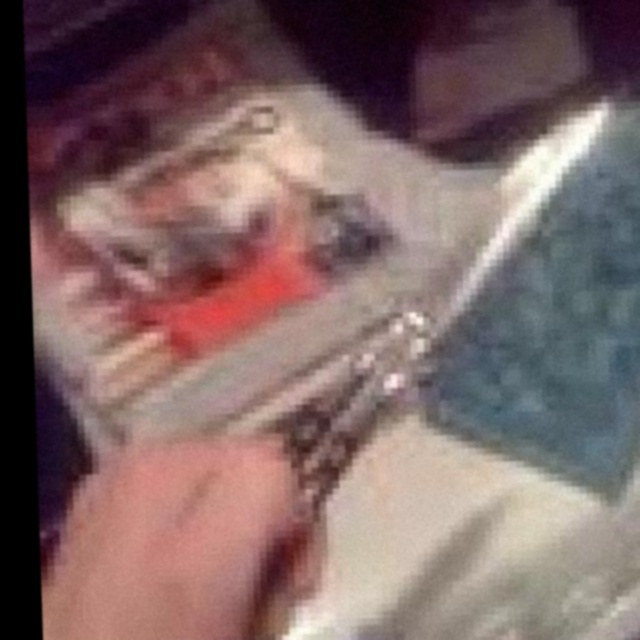Sharp-Object: (273, 106, 625, 550)
